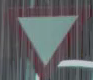Give way: (6, 4, 85, 73)
